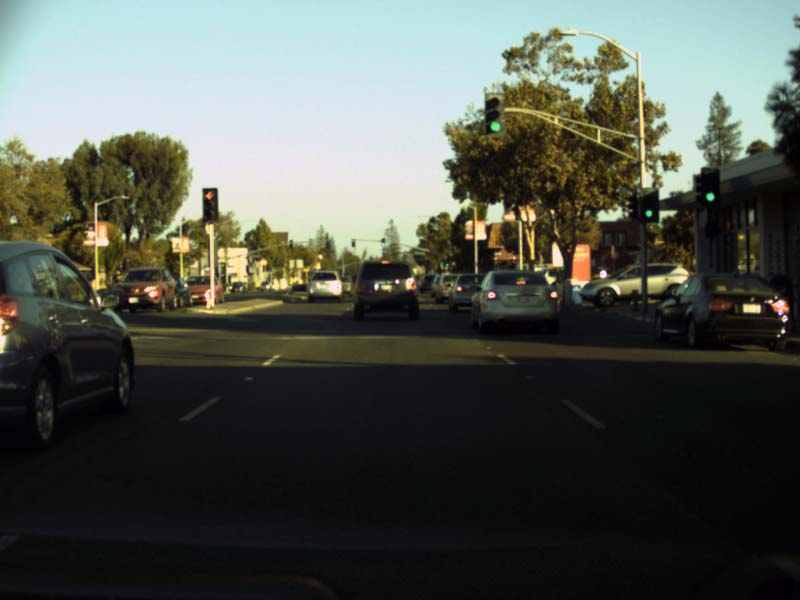Green: (485, 92, 503, 131), (641, 189, 659, 221), (703, 168, 718, 200), (381, 236, 386, 247), (444, 259, 449, 266)
Red: (202, 188, 217, 219), (351, 237, 356, 247)
